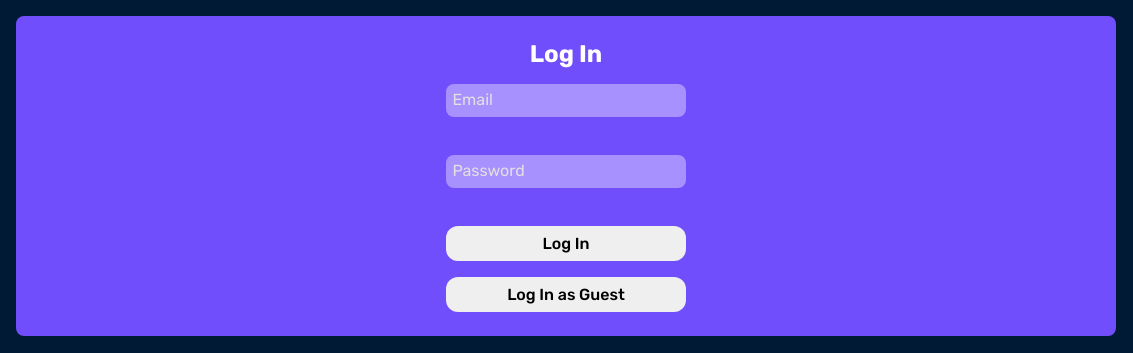
Scenario: Login component › Remove invalid input errors on correct input
This screenshot has width=1133, height=353.
Click the field labelled "Email".
click(566, 101)  # box [446,84,686,117]
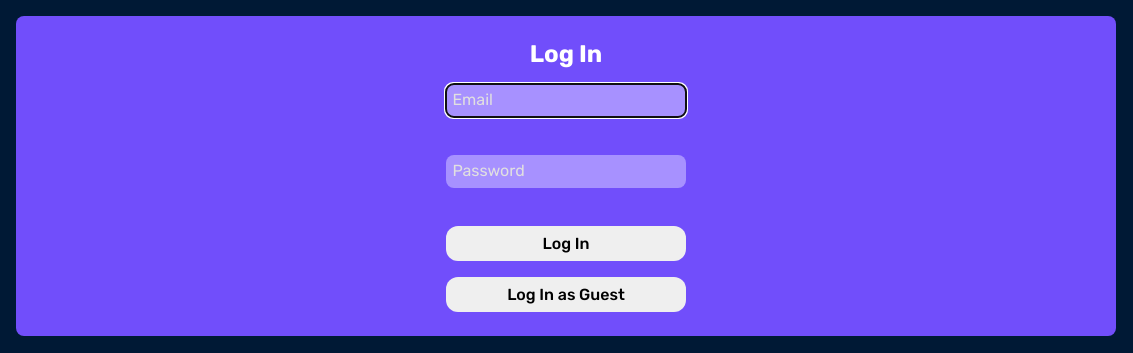
Click the password field labelled "Password".
click(566, 172)  # box [446,155,686,188]
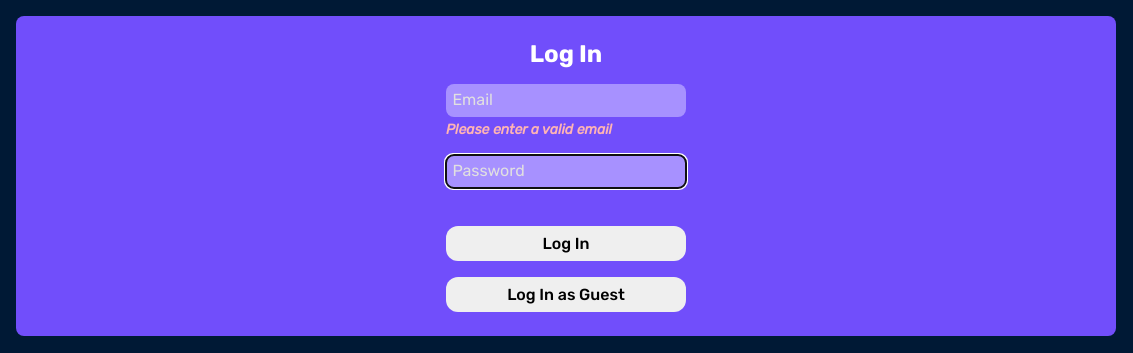
Press Tab
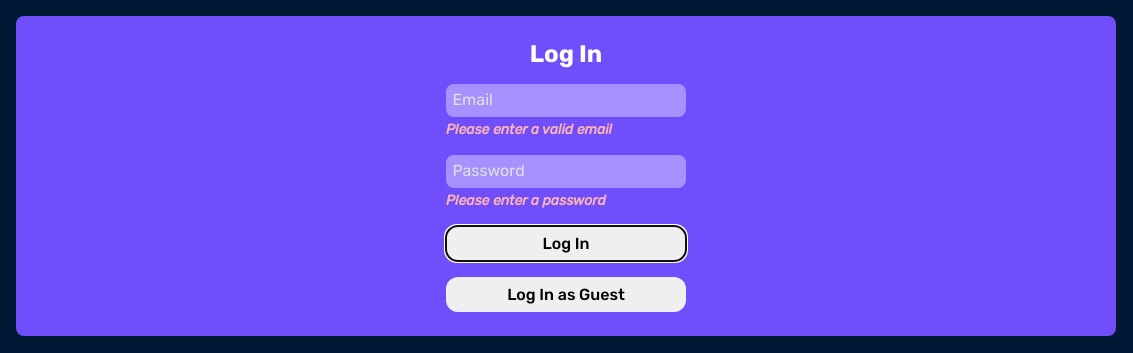
Type "test@mail.com" into the field labelled "Email".
click(566, 101); type("test@mail.com")  # box [446,84,686,117]
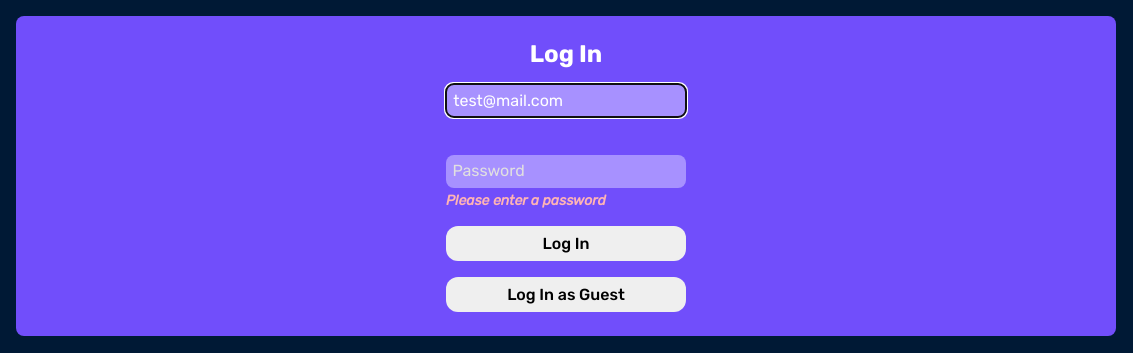
Type "123" into the password field labelled "Password".
click(566, 172); type("123")  # box [446,155,686,188]
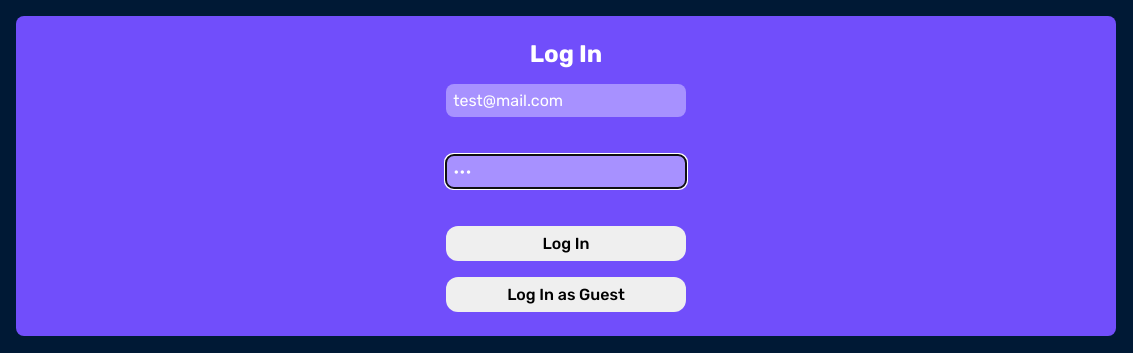
Expected: the text "Please enter a valid email" is not shown
Now the text "Please enter a password" is gone
